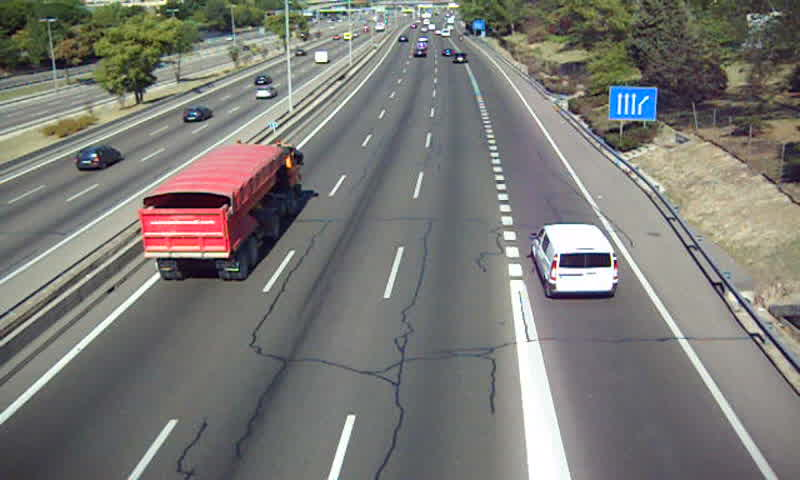truck: (138, 143, 304, 281)
van: (529, 224, 617, 297)
